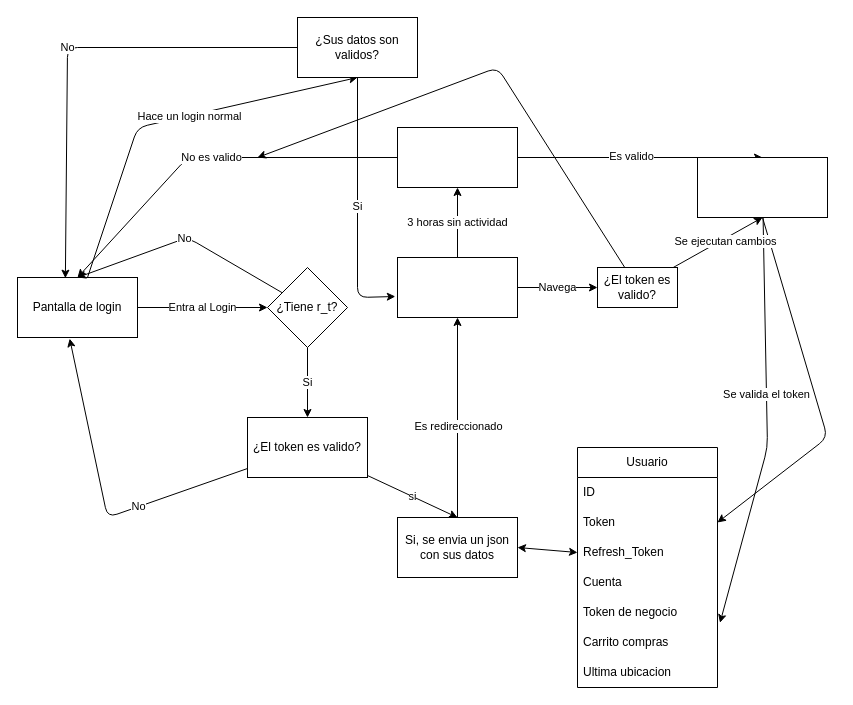
The diagram is 853 pixels wide and 705 high, and some of its shapes have lost their labels. Each missing label, with the centre of its shape:
"Dashboard" goes at pixel 457 287.
"Genera cambios En el negocio" goes at pixel 762 187.
"Se usa el refresh_token" goes at pixel 457 157.
